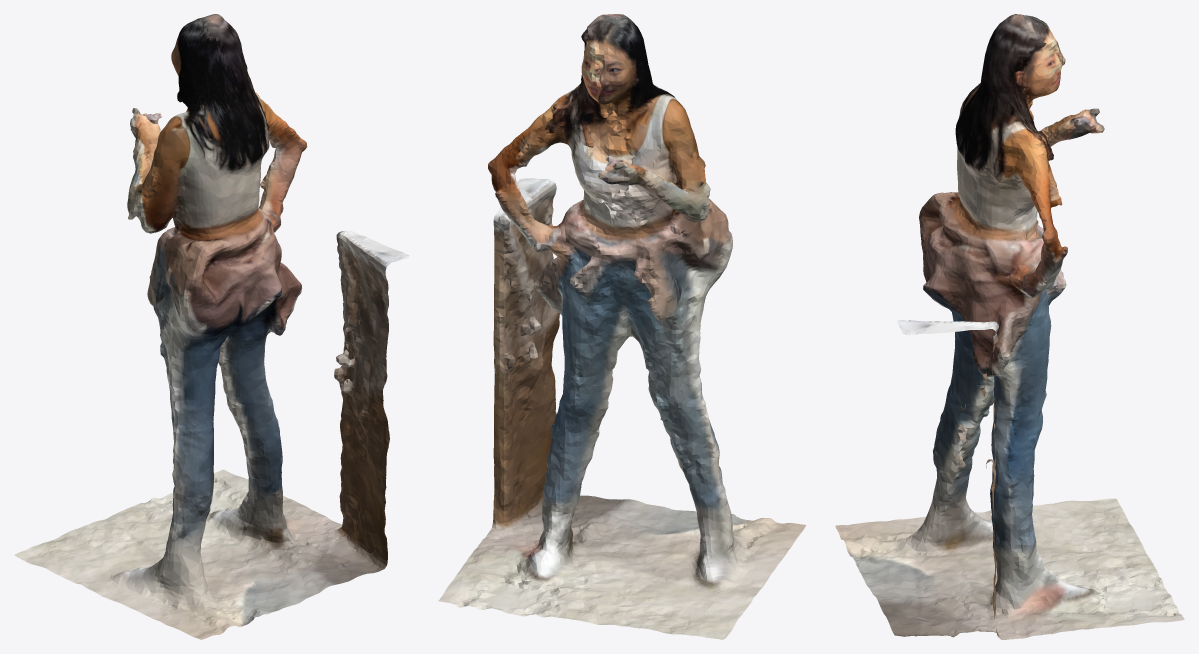
Rendered from mbo_friends_Georgia.glb.
3 views of the same model, side by side, from view 1: azimuth 30°, elevation 25°; view 2: azimuth 150°, elevation 25°; view 3: azimuth 270°, elevation 25° (orthographic). The views are drawn at different scales.
Size of the model in its own units: 0.9791 by 1.7 by 0.9549.
1 material, 1 textured.
